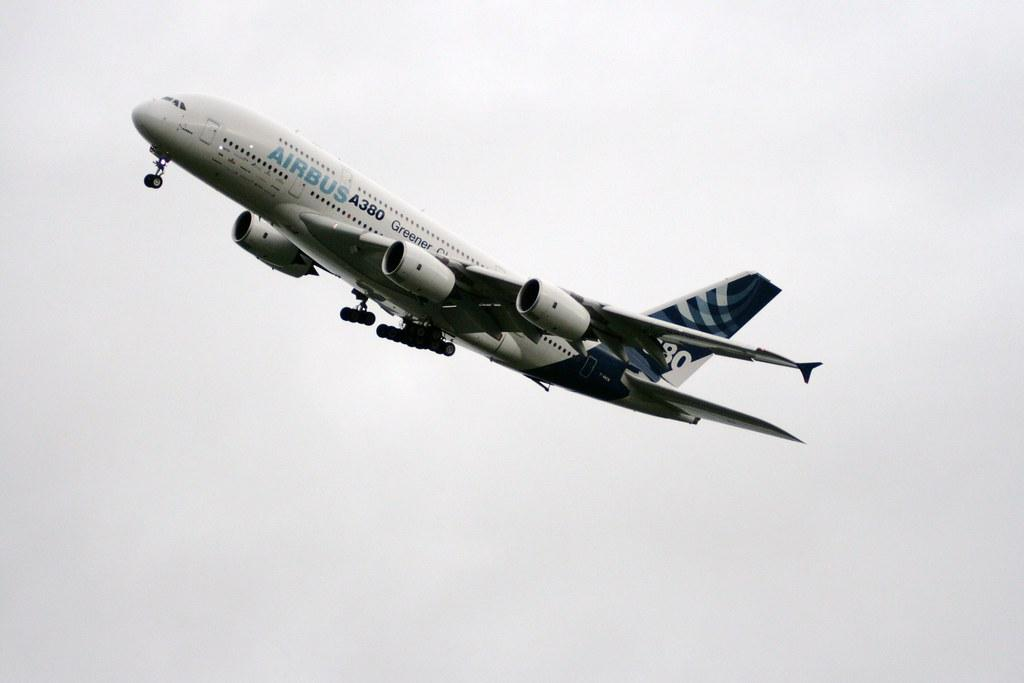plane: (131, 91, 824, 446)
